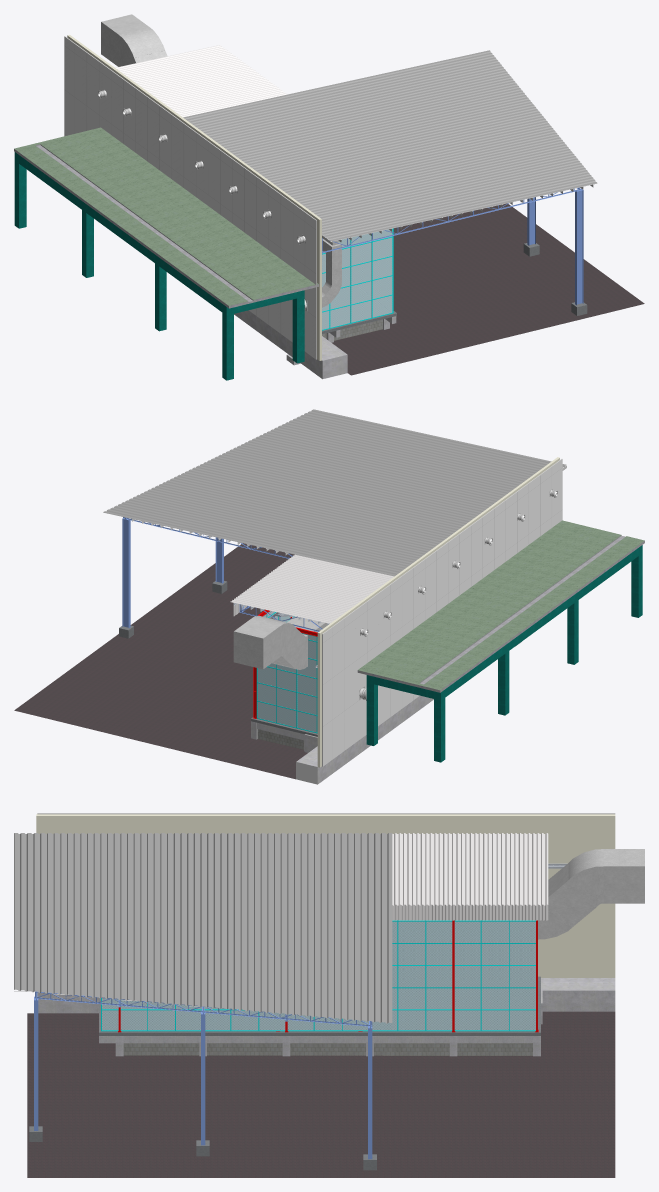
File: fullview.glb
The picture shows the model from 3 angles, top to bottom: view 1: azimuth 30°, elevation 25°; view 2: azimuth 150°, elevation 25°; view 3: azimuth 270°, elevation 25°; orthographic projection. The views are drawn at different scales.
Parts seen in each view (by area): view 1: Geom3D (×15), Geom3D_ (×4); view 2: Geom3D (×15), Geom3D_ (×3); view 3: Geom3D (×13), Geom3D_ (×13).
Boxes of the visible parts, x1,y1,x2,y2 form: Geom3D (×15): [14, 35, 644, 380]; Geom3D_ (×4): [101, 14, 597, 253]; Geom3D (×15): [14, 457, 644, 784]; Geom3D_ (×3): [103, 409, 566, 669]; Geom3D (×13): [27, 814, 615, 1177]; Geom3D_ (×13): [14, 813, 644, 1159].
Bounding box in the file's own units: 24.71 × 9.74 × 28.35.
Materials: 28 (15 with a texture image).
